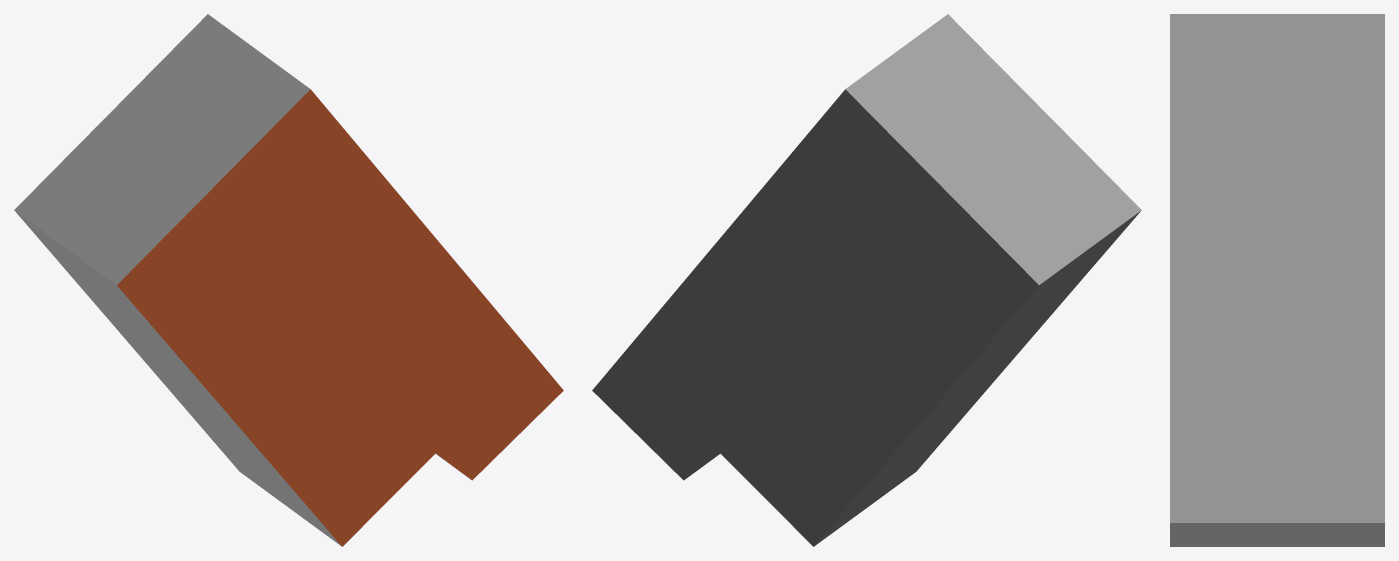
The model's file is construction_0798_assumed_A_Casa_h6m.obj.
3 views of the same model, side by side, from view 1: azimuth 30°, elevation 25°; view 2: azimuth 150°, elevation 25°; view 3: azimuth 270°, elevation 25° (orthographic). The views are drawn at different scales.
Parts seen in each view (by area): view 1: construction_0798_assumed_A_Casa; view 2: construction_0798_assumed_A_Casa; view 3: construction_0798_assumed_A_Casa.
Boxes of the visible parts, box(x1,y1,x2,y2) form: construction_0798_assumed_A_Casa: box(14, 14, 563, 546); construction_0798_assumed_A_Casa: box(592, 14, 1141, 546); construction_0798_assumed_A_Casa: box(1170, 14, 1384, 546).
Size of the model in its own units: 15.08 by 15 by 6.
